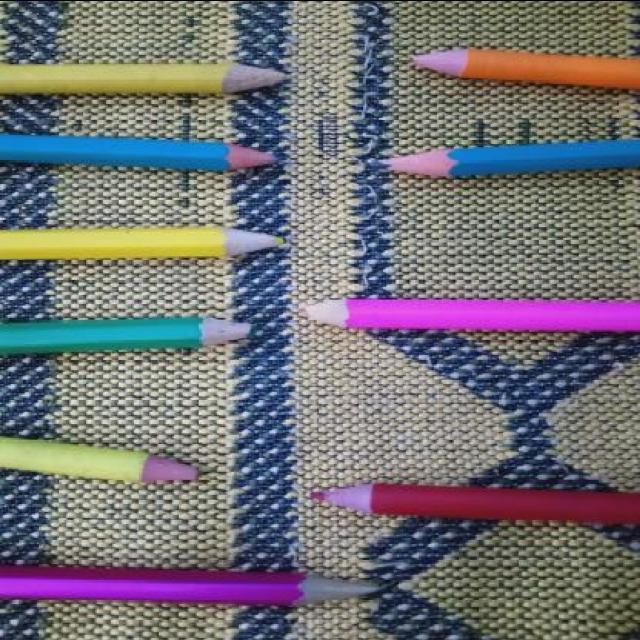Pencil: (276, 561, 398, 617), (200, 52, 304, 103), (354, 137, 464, 185), (118, 438, 212, 493), (192, 130, 294, 179), (172, 303, 268, 355), (196, 213, 296, 262), (394, 36, 486, 87), (282, 284, 362, 336), (302, 474, 391, 517)
